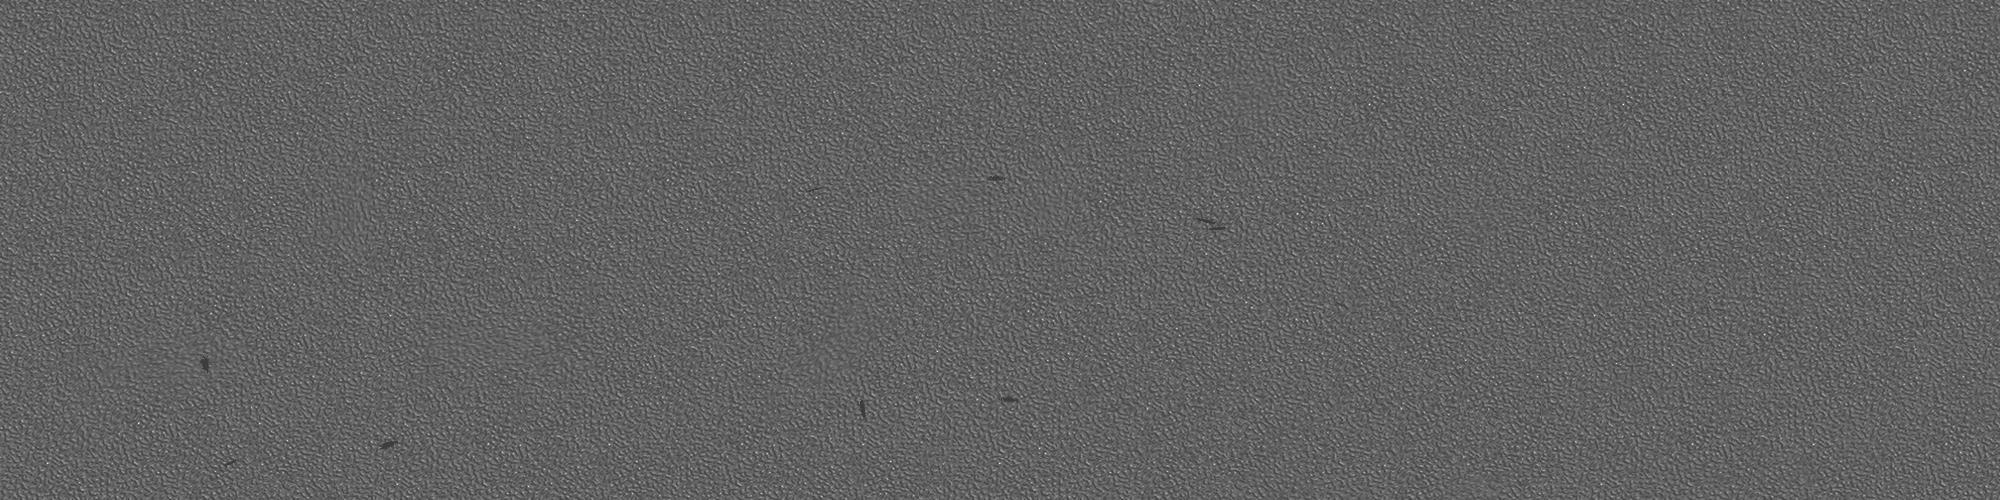Decomposed: (1189, 210, 1232, 237), (208, 450, 249, 476), (983, 170, 1013, 187), (997, 390, 1026, 407), (375, 437, 399, 455), (196, 356, 212, 379), (851, 401, 869, 420)
